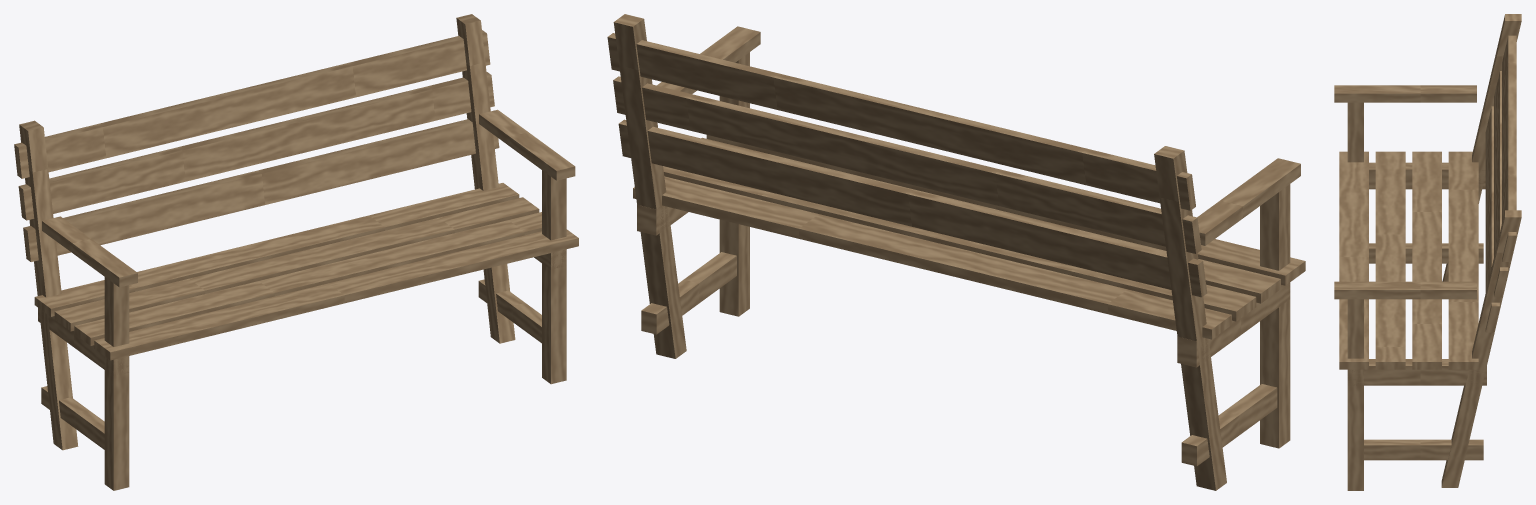
The picture shows the model from 3 angles, left to right: view 1: azimuth 30°, elevation 25°; view 2: azimuth 150°, elevation 25°; view 3: azimuth 270°, elevation 25°; orthographic projection. The views are drawn at different scales.
Parts seen in each view (by area): view 1: Garden bench, wooden; view 2: Garden bench, wooden; view 3: Garden bench, wooden.
Boxes of the visible parts, box(x1,y1,x2,y2) form: Garden bench, wooden: box(14, 14, 578, 490); Garden bench, wooden: box(607, 14, 1305, 490); Garden bench, wooden: box(1334, 14, 1521, 490).
Size of the model in its own units: 1.5 by 0.9095 by 0.5648.
Materials: 1 (1 with a texture image).
